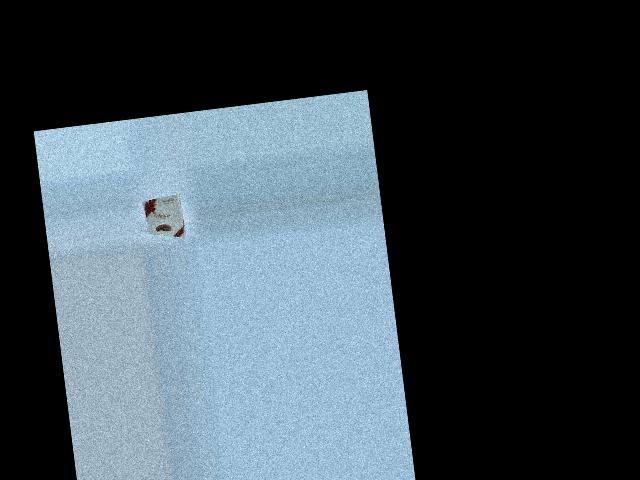chocolate: (141, 193, 194, 243)
